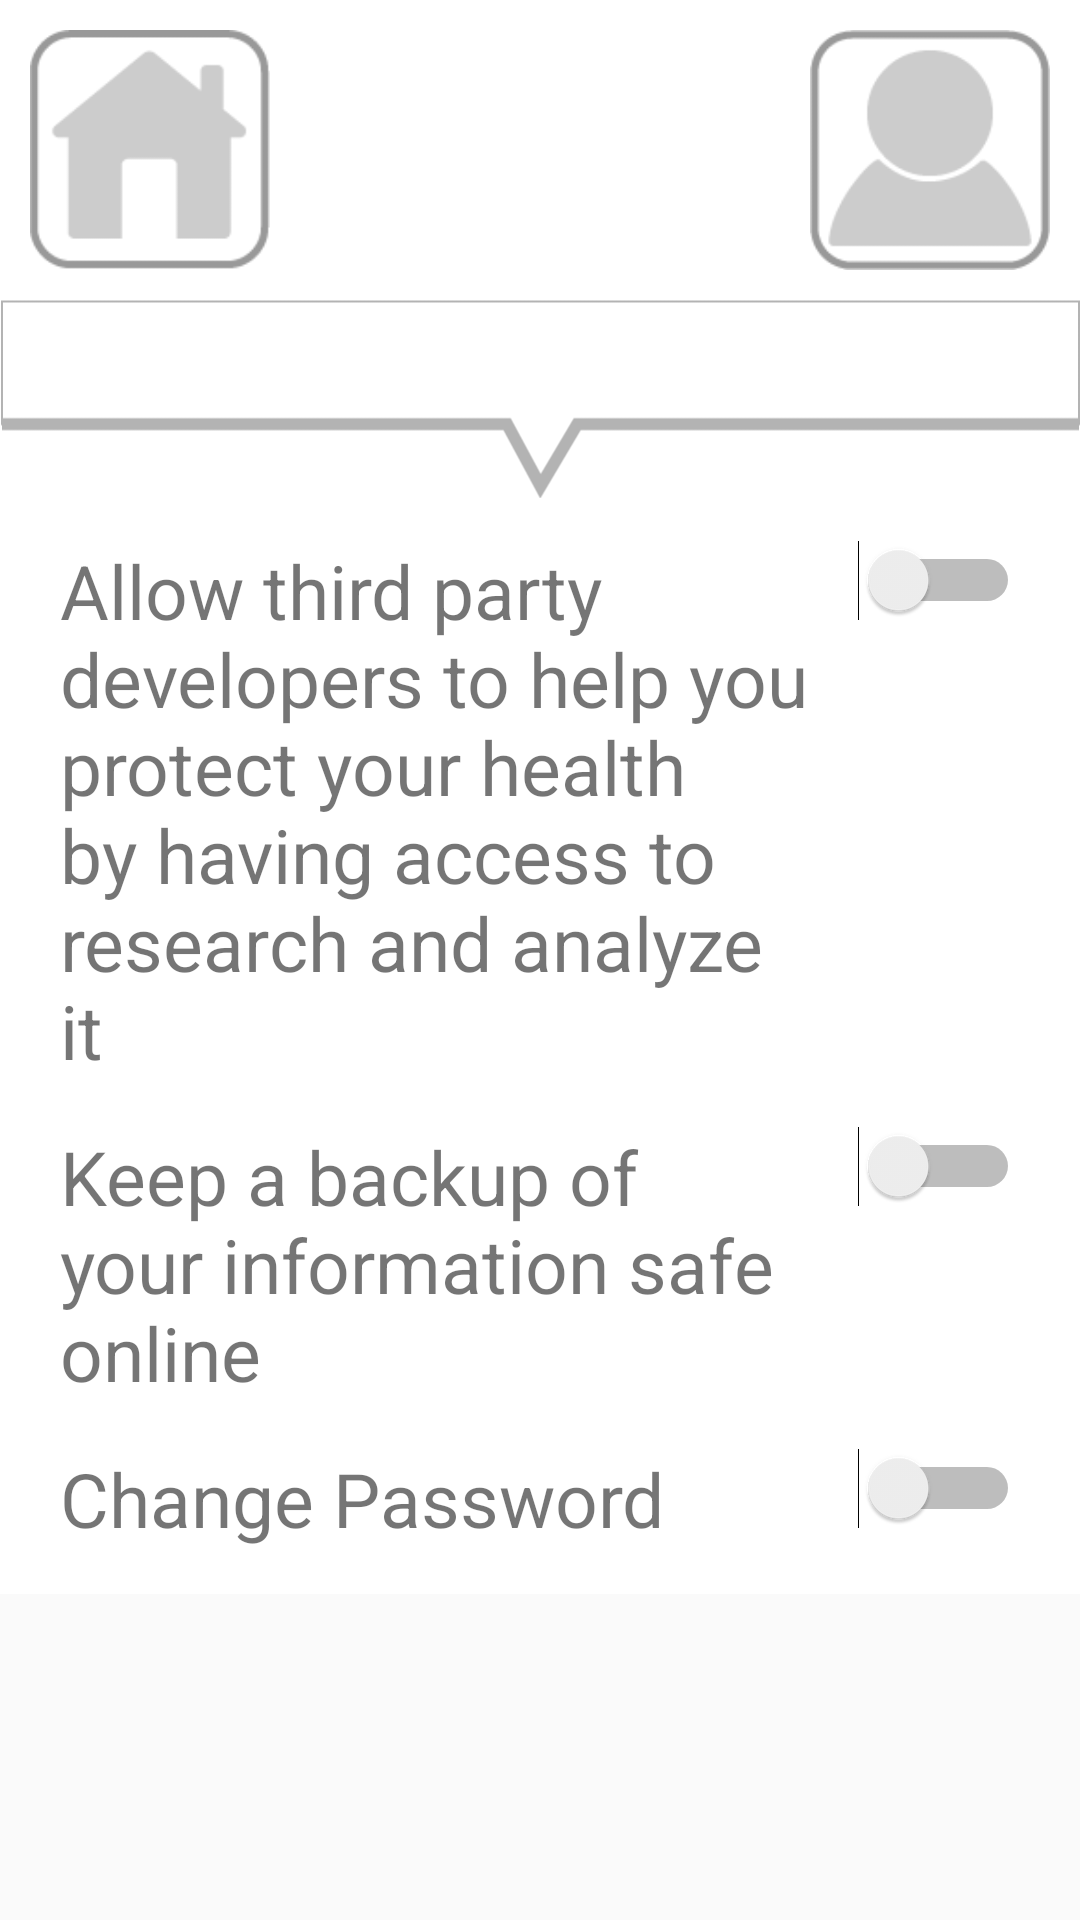

Named icons in this screenshot (1080px×1920px) and their centers, (x=x, y=y):
home: (x=150, y=149)
profile: (x=930, y=150)
